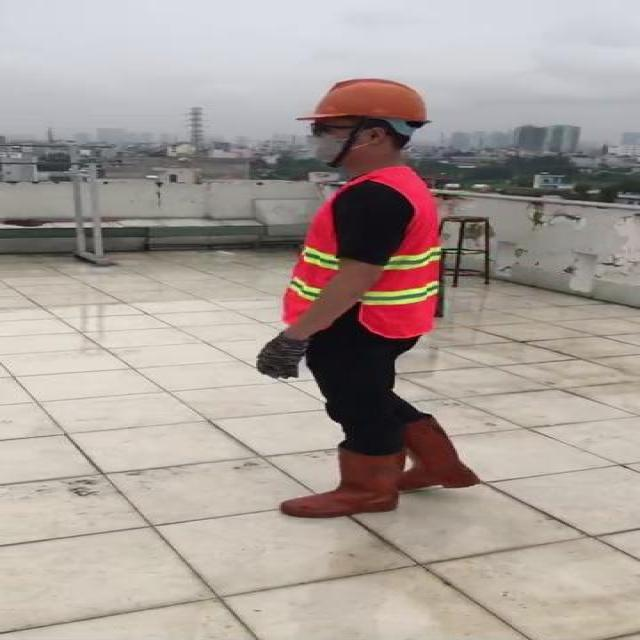boots: (279, 444, 402, 518), (400, 419, 480, 494)
face_mask: (300, 119, 364, 169)
hand_glove: (256, 336, 308, 379)
head_helmet: (306, 75, 432, 126)
person: (246, 71, 494, 516)
vest: (281, 168, 437, 338)
